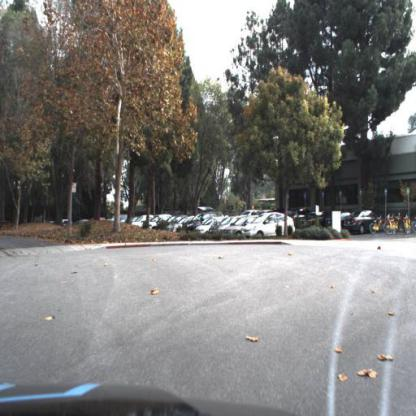car: (241, 212, 295, 239), (343, 209, 386, 238), (223, 213, 262, 243), (196, 217, 236, 243)
